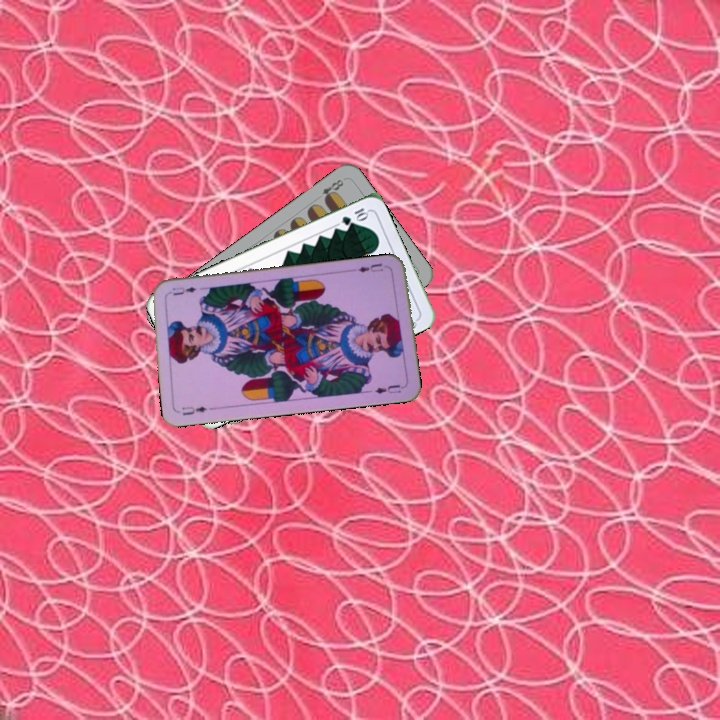E8: (318, 175, 346, 204)
EU: (178, 402, 210, 418), (354, 259, 385, 275)
G10: (337, 204, 371, 228)
